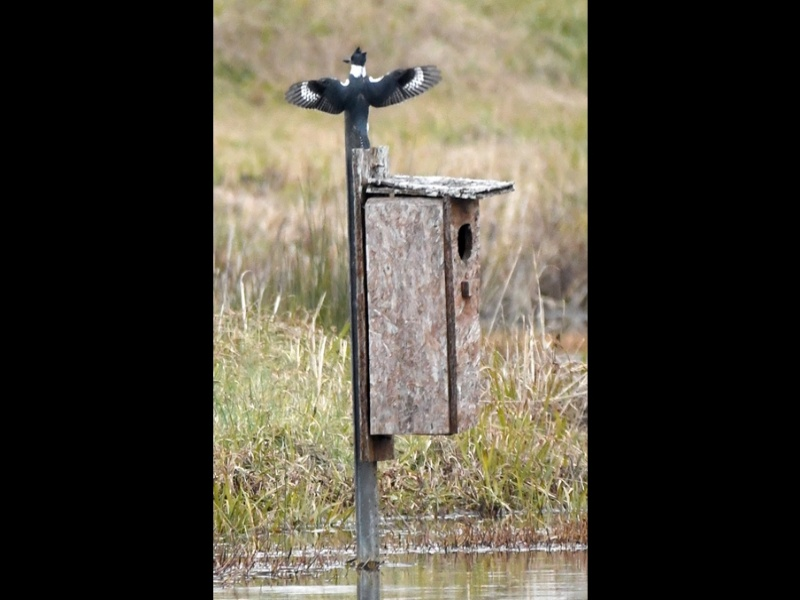kingfisher: (277, 44, 449, 149)
